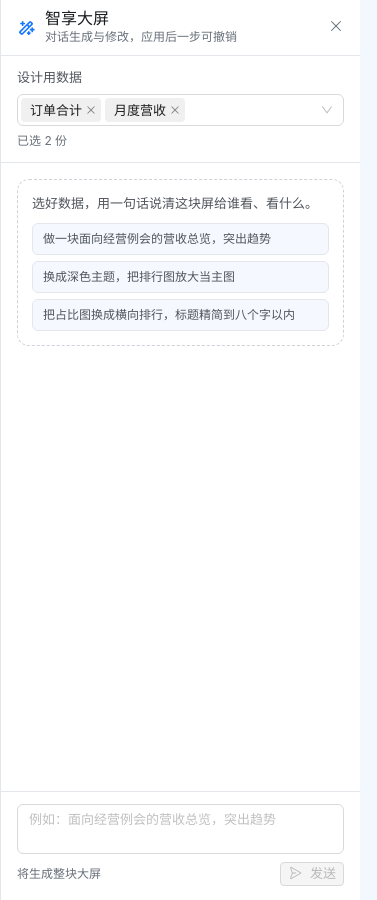
SmartDashboardPanel › 模型没参与时在候选卡顶部说明这是本地兜底版并给出排查方向
Expected: the text "已选 2 份" is shown, [17,132,67,148]
Type "帮我设计个企业级的大屏" into the text box named "设计需求". click: (180, 829)
box: [17,804,344,854]
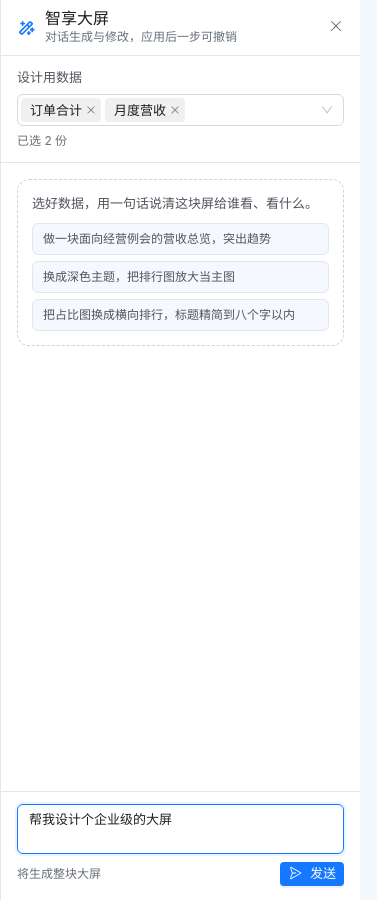
Click the button "发送". click: (312, 874)
box: [280,862,344,886]
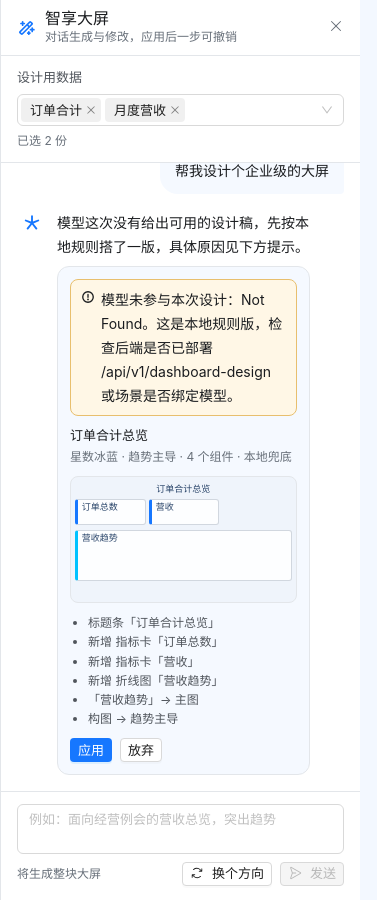
Result: the element named "智享候选方案" shows "模型未参与本次设计：Not Found" at [101,291,282,404]
Result: the element named "智享候选方案" shows "/api/v1/dashboard-design" at [101,291,282,404]
Result: the element named "智享候选方案" shows "订单合计总览" at [70,427,148,443]
